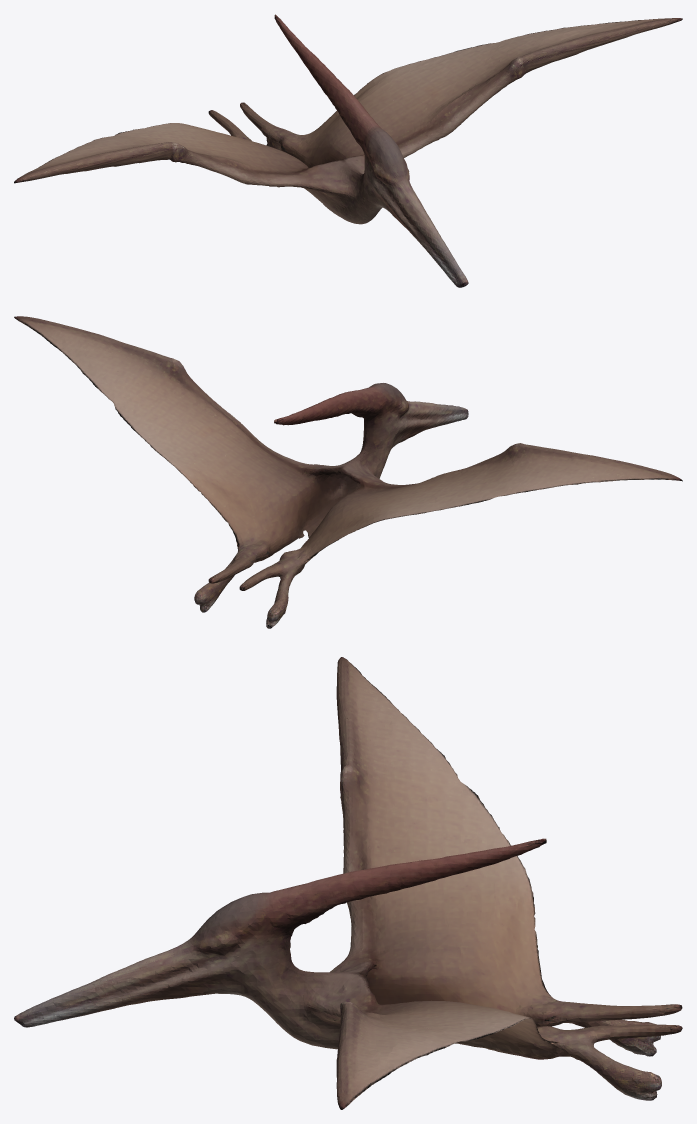
The picture shows the model from 3 angles, top to bottom: view 1: azimuth 30°, elevation 25°; view 2: azimuth 150°, elevation 25°; view 3: azimuth 270°, elevation 25°; orthographic projection. The views are drawn at different scales.
Parts seen in each view (by area): view 1: world; view 2: world; view 3: world.
Boxes of the visible parts, box(x1,y1,x2,y2) form: world: box(14, 14, 682, 287); world: box(14, 316, 682, 628); world: box(14, 657, 682, 1109).
Bounding box in the file's own units: 0.9869 × 0.2433 × 0.6159.
Materials: 1 (1 with a texture image).
